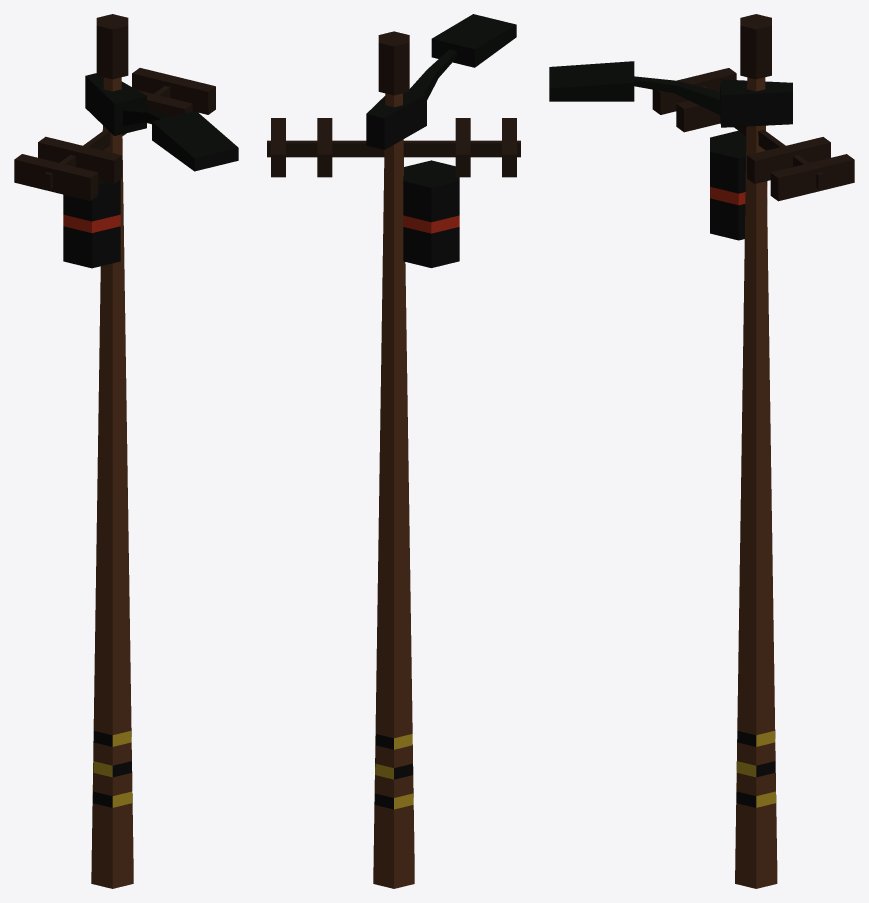
File: pole.fbx
3 views of the same model, side by side, from view 1: azimuth 30°, elevation 25°; view 2: azimuth 150°, elevation 25°; view 3: azimuth 270°, elevation 25° (orthographic). The views are drawn at different scales.
Visible parts, largest first — view 1: pole (2); view 2: pole (2); view 3: pole (2).
Boxes of the visible parts, <box> form: pole (2): <box>14,14,238,888</box>; pole (2): <box>267,14,520,888</box>; pole (2): <box>549,14,854,888</box>.
Bounding box in the file's own units: 204 × 737 × 238.
